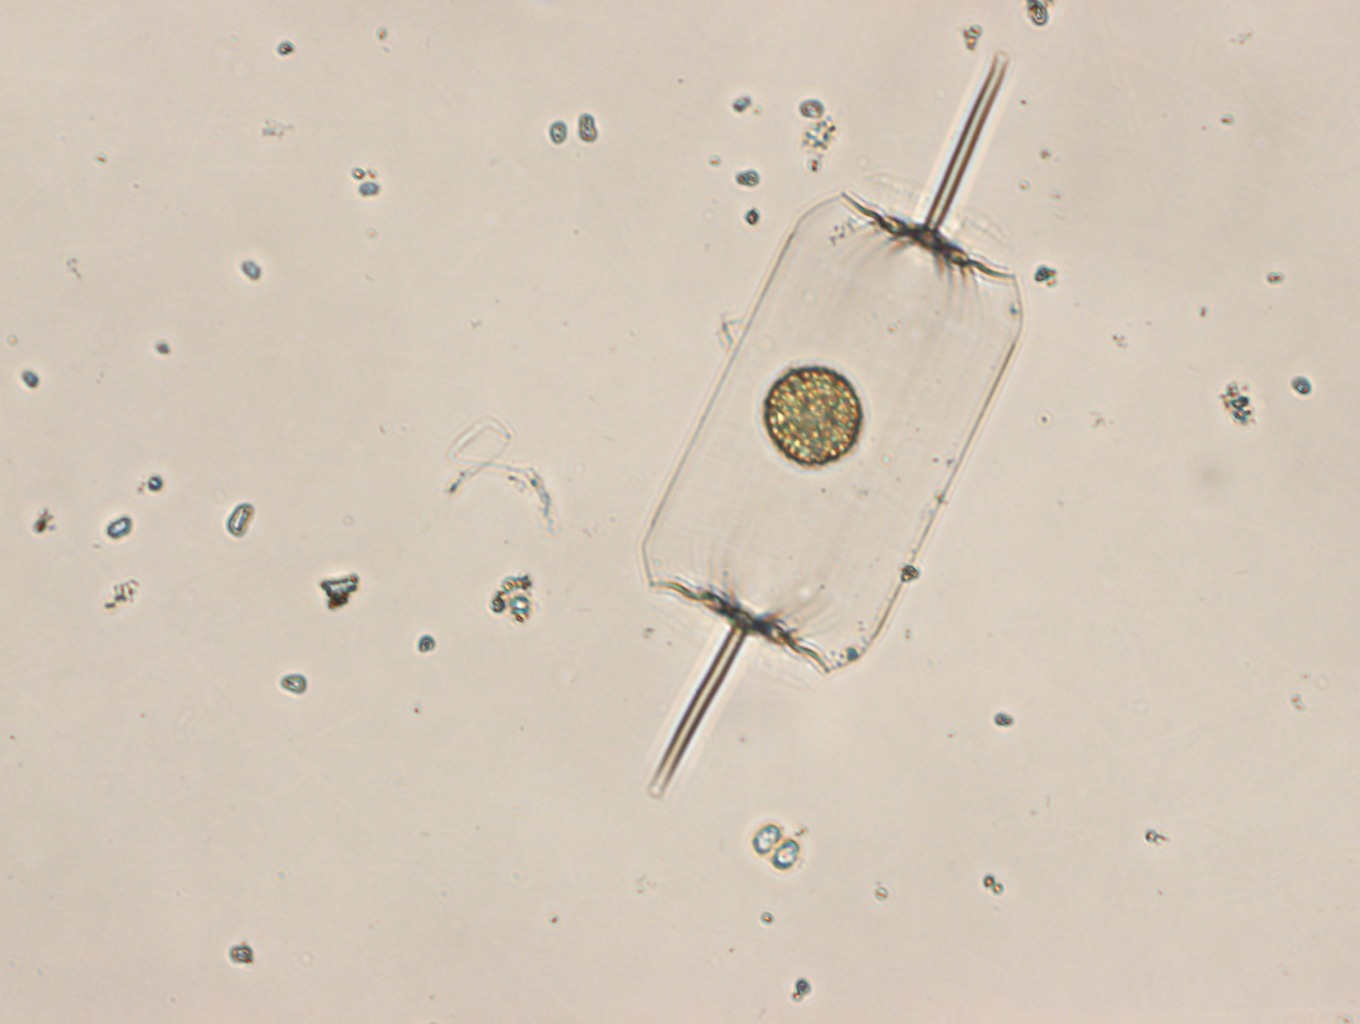ditylum: (640, 47, 1026, 800)
